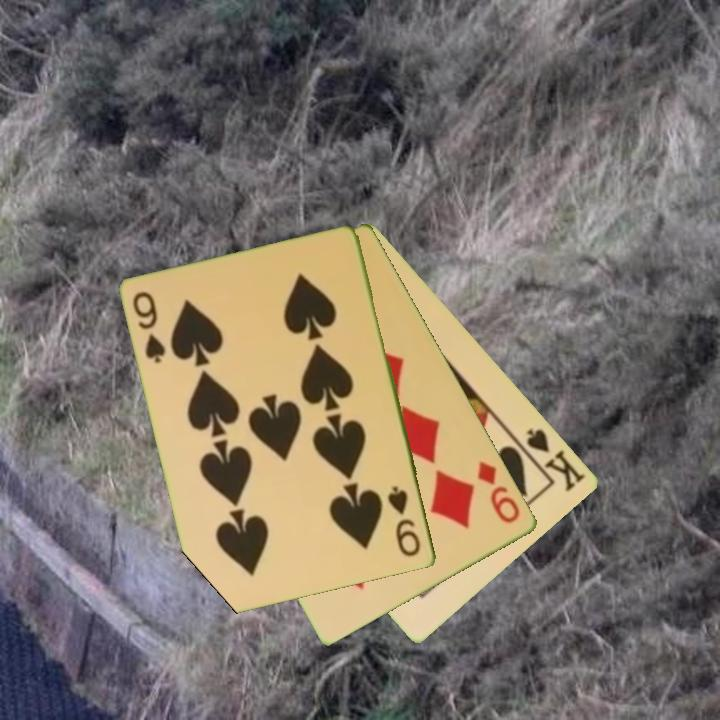9d: (474, 457, 524, 527)
9s: (129, 288, 169, 367), (384, 482, 424, 560)
Ks: (513, 425, 589, 495)
